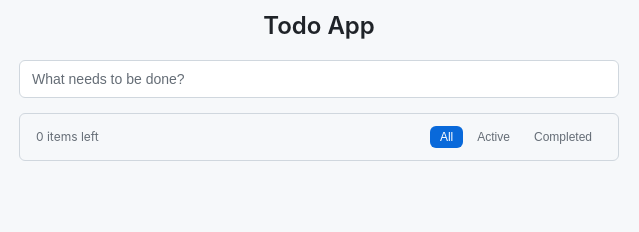
it: App › toggles todo completion
Type "Buy milk" into the field with placeholder "What needs to be done?".
click(319, 79); type("Buy milk")  # box [19,60,619,98]
Then press Enter
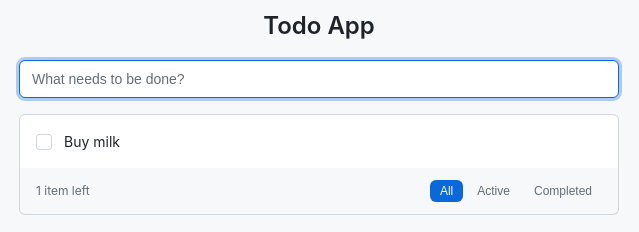
Click the checkbox.
click(44, 142)  # box [36,134,52,150]
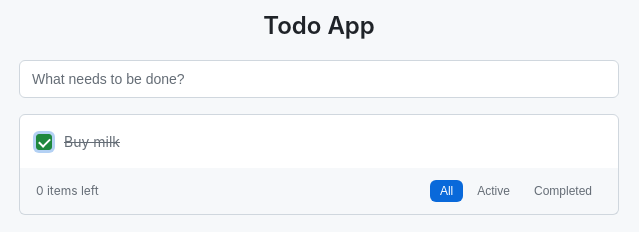
Check: the text "0 items left" is shown, box [36,182,99,200]
